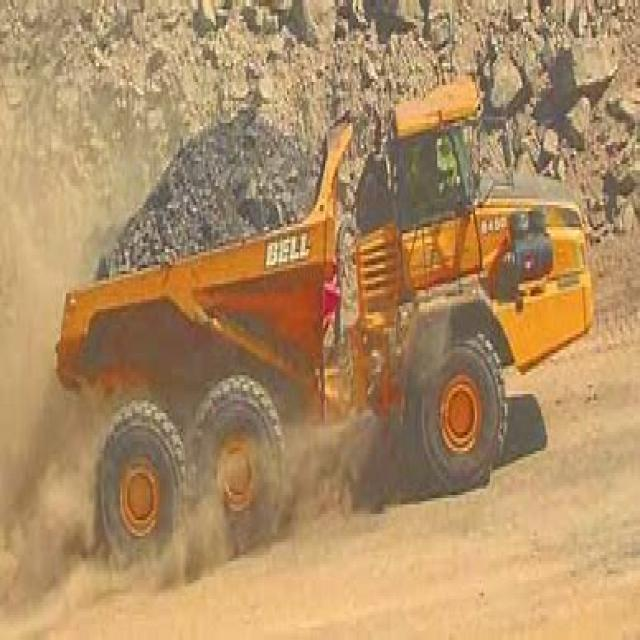dump_truck: (54, 63, 589, 586)
